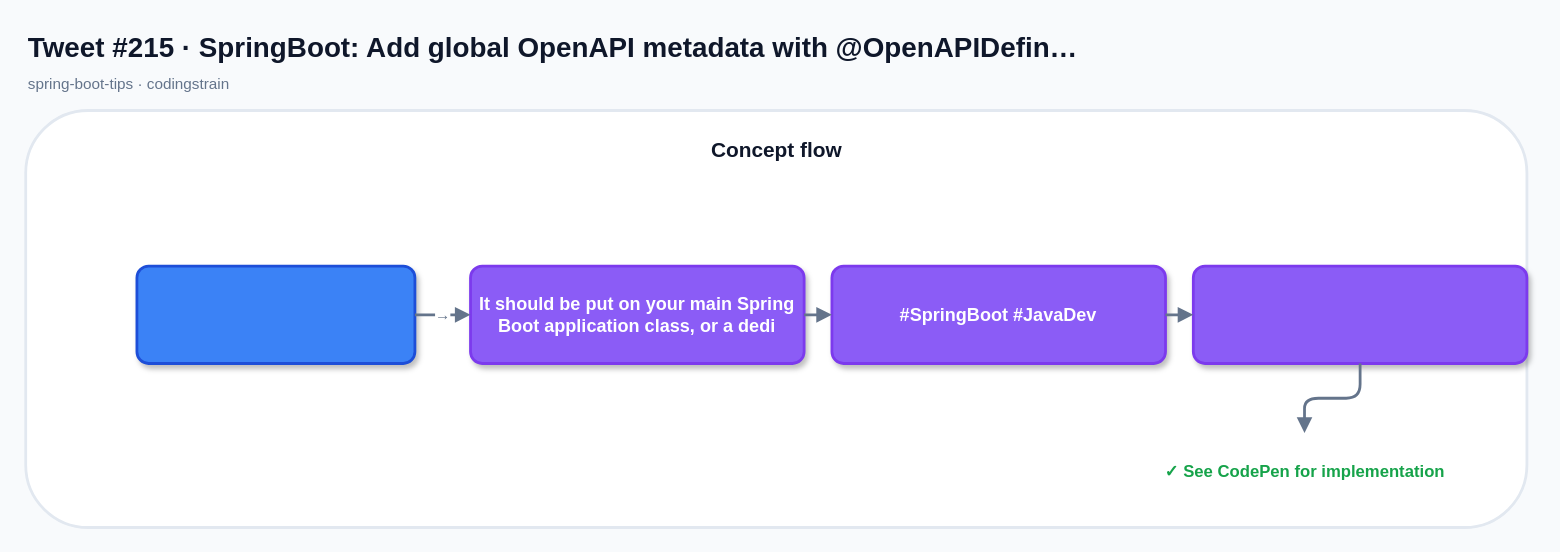
Image size: 1560x552. Some labels were removed from this diagram. Here are the shapes that lost their labels. From the top down, the centre of each, then its label:
At point (276, 316): "Problem / context".
At point (1361, 316): "Runnable sample: `spring-boot-tips`".
